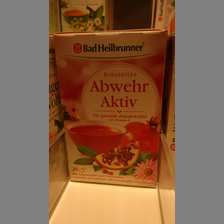tea: (53, 29, 169, 189)
